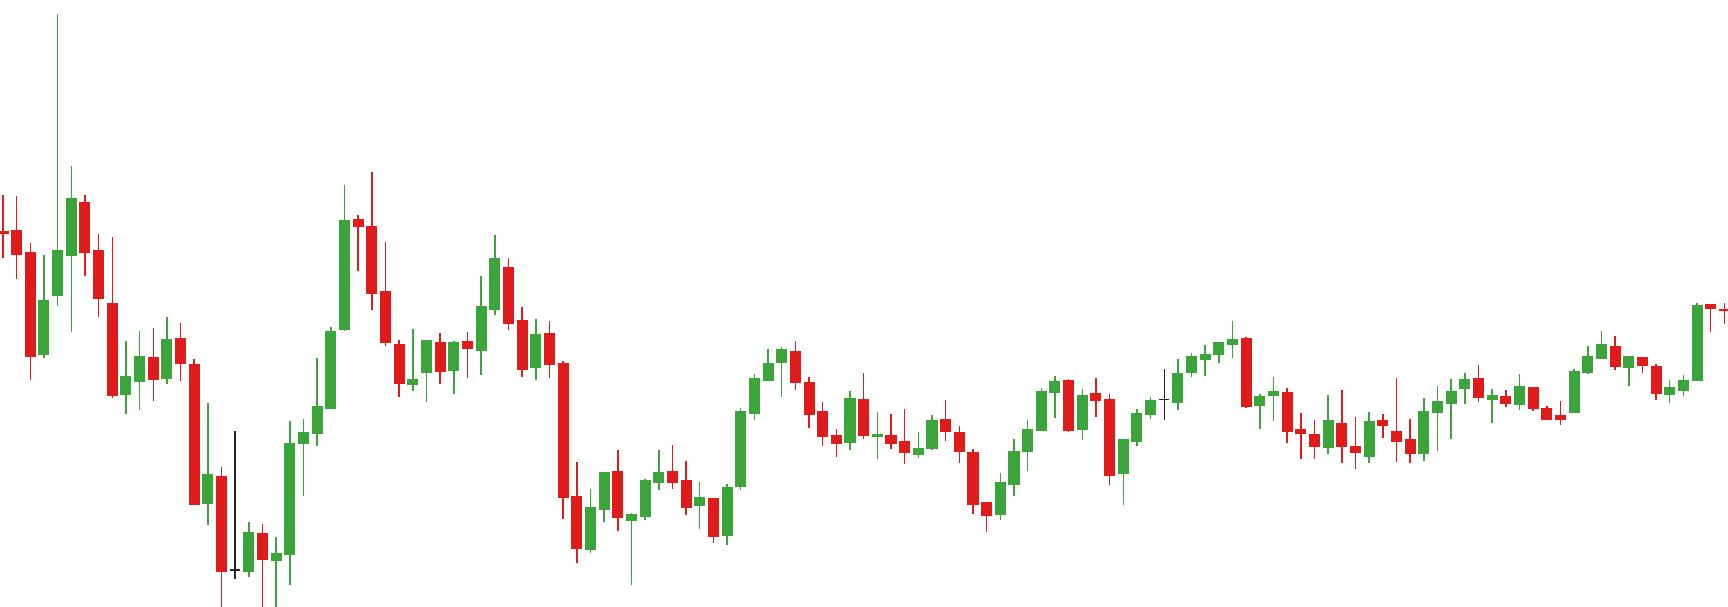buy: (569, 471, 637, 587)
sell: (105, 184, 361, 425)
